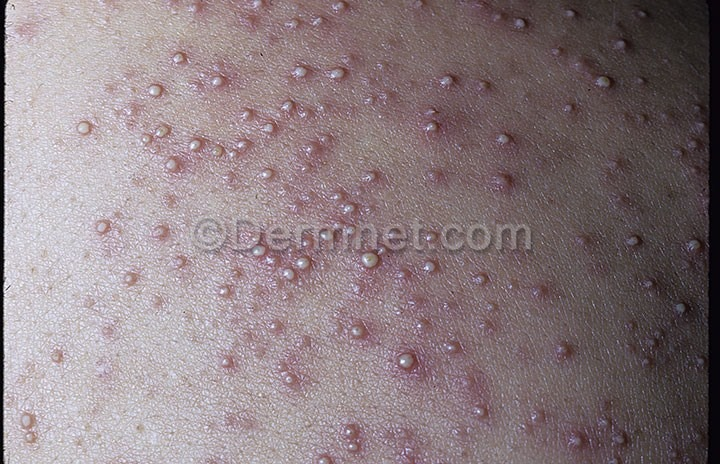Melasma: (40, 5, 720, 222), (23, 255, 720, 464), (558, 198, 720, 309)
